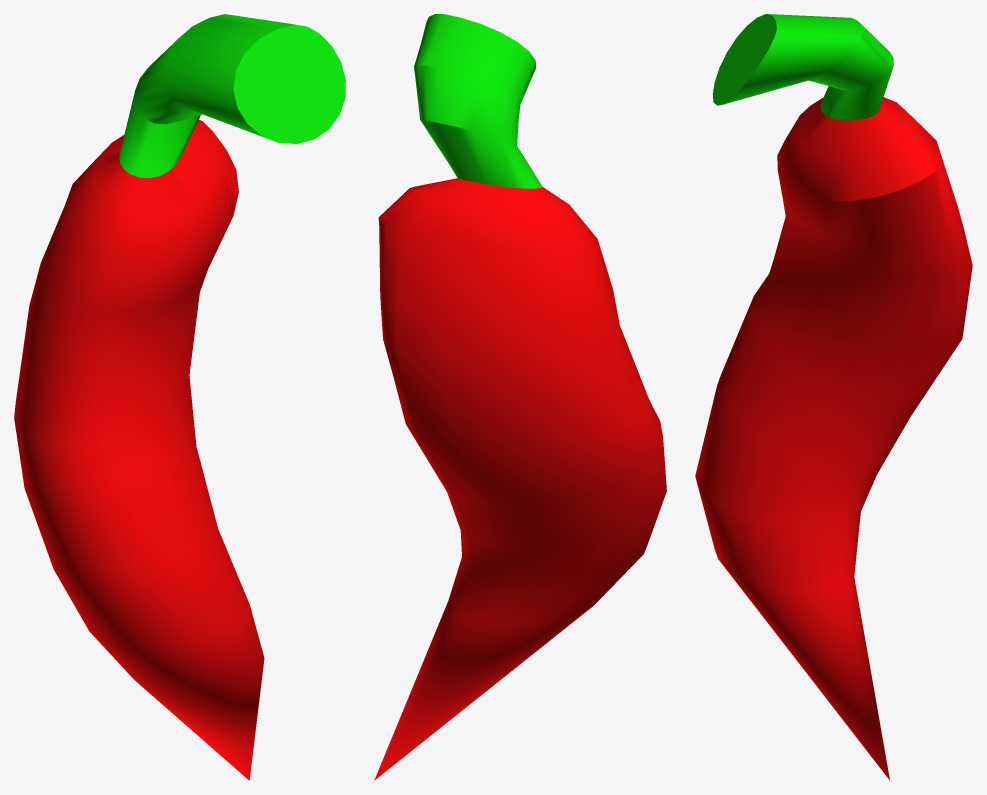
The model's file is Deseases_01.fbx.
3 views of the same model, side by side, from view 1: azimuth 30°, elevation 25°; view 2: azimuth 150°, elevation 25°; view 3: azimuth 270°, elevation 25° (orthographic). The views are drawn at different scales.
Parts seen in each view (by area): view 1: Peperoni; view 2: Peperoni; view 3: Peperoni.
Boxes of the visible parts, x1,y1,x2,y2 form: Peperoni: [14, 14, 345, 780]; Peperoni: [374, 14, 666, 780]; Peperoni: [695, 14, 972, 780].
Bounding box in the file's own units: 33.73 × 92.58 × 31.28.
